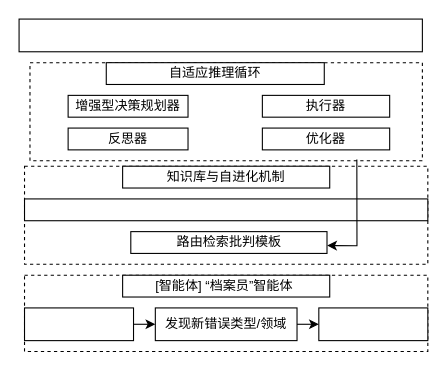
The diagram is 447 pixels wide and 371 high, and some of its shapes have lost their labels. Here are the shapes that lost their labels. From the top down, the centre of each, then its label:
At (220,35): "面向表格推理的混合推理框架中推理路径的自适应构建".
At (225,209): "[数据存储] 自进化模板树知识库".
At (78,324): "复盘与模式提取".
At (373,324): "执行垂直/水平扩展".
